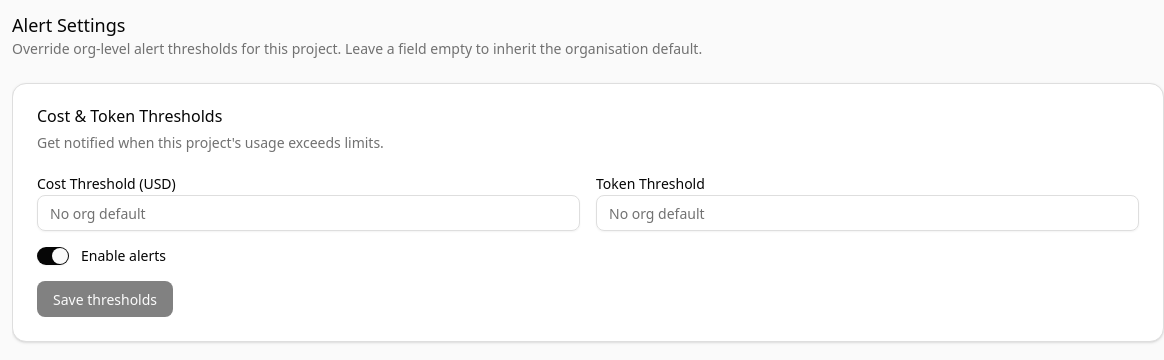
ProjectAlertsSection › save button is enabled after toggling alert enabled switch
The width and height of the screenshot is (1164, 360).
Click the switch at (53, 256), box [37,247,69,265]
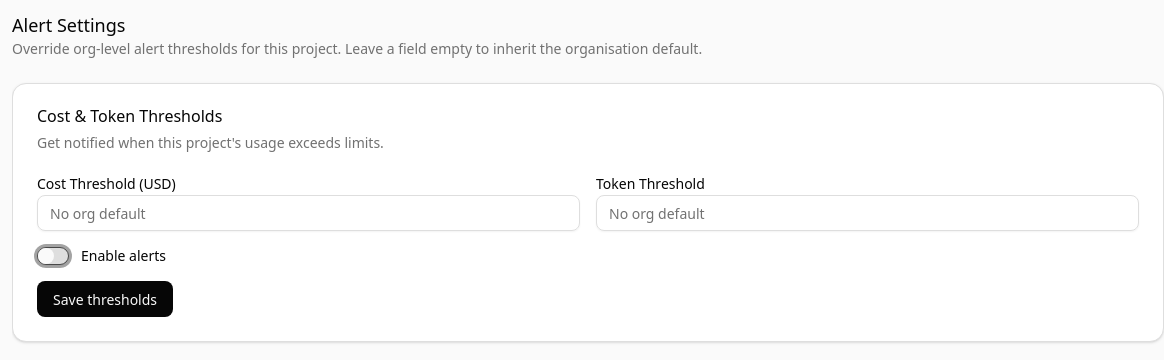
Result: the button "Save thresholds" is enabled at [37,281,173,317]
